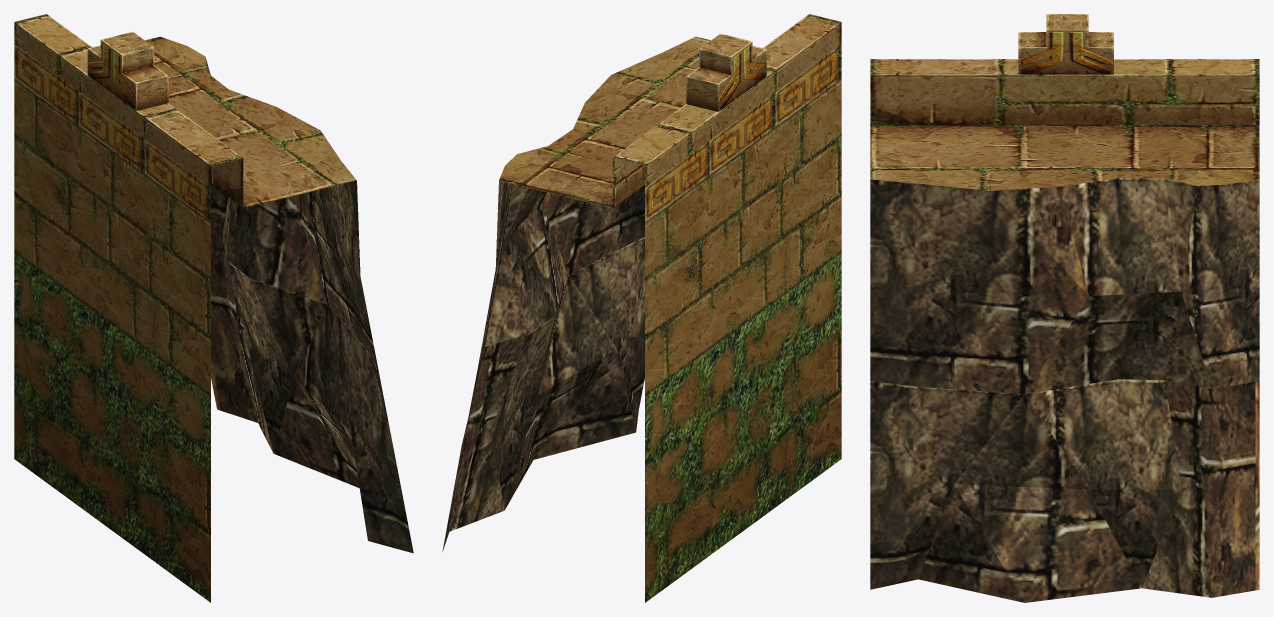
File: TempleRoad010.FBX
3 renders of one model, left to right at view 1: azimuth 30°, elevation 25°; view 2: azimuth 150°, elevation 25°; view 3: azimuth 270°, elevation 25°, orthographic.
Parts seen in each view (by area): view 1: TempleRoad010; view 2: TempleRoad010; view 3: TempleRoad010.
Part boxes in pixels (x1,y1,x2,y2): TempleRoad010: [14, 14, 413, 602]; TempleRoad010: [442, 14, 841, 602]; TempleRoad010: [870, 14, 1259, 602].
Size of the model in its own units: 338 by 677 by 500.
